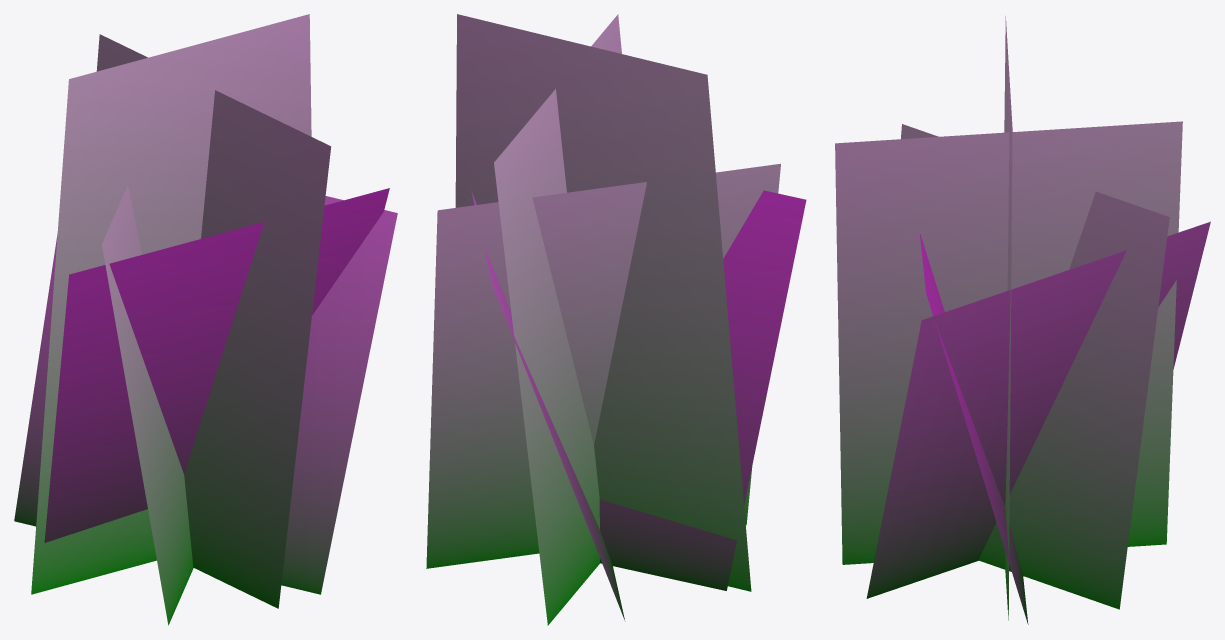
The model's file is reed_01_b.dae.
3 views of the same model, side by side, from view 1: azimuth 30°, elevation 25°; view 2: azimuth 150°, elevation 25°; view 3: azimuth 270°, elevation 25° (orthographic). The views are drawn at different scales.
Visible parts, largest first — view 1: reed_sf8; view 2: reed_sf8; view 3: reed_sf8.
Boxes of the visible parts, x1=… form: reed_sf8: x1=14, y1=14, x2=397, y2=625; reed_sf8: x1=426, y1=14, x2=806, y2=625; reed_sf8: x1=835, y1=16, x2=1210, y2=624.
Bounding box in the file's own units: 1.25 × 1.24 × 1.82.
